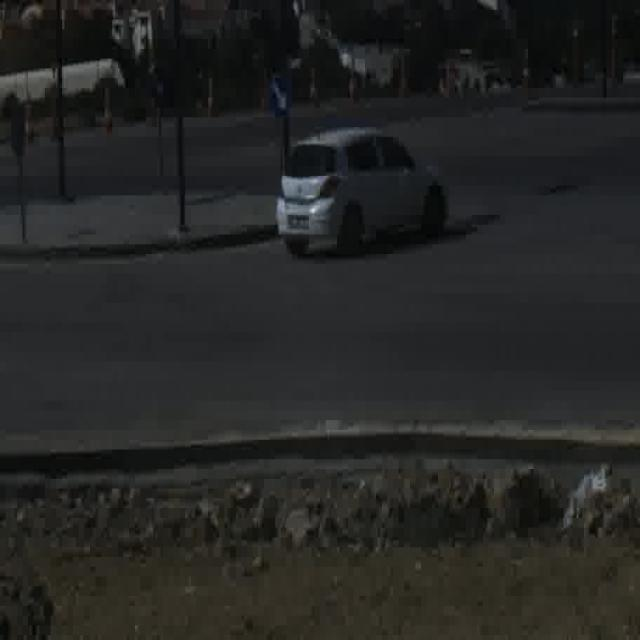Car: (278, 128, 448, 258)
